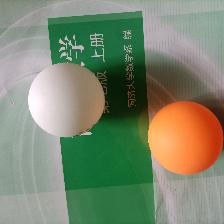WhiteBall: (27, 62, 105, 137)
YellowBall: (147, 101, 223, 174)
